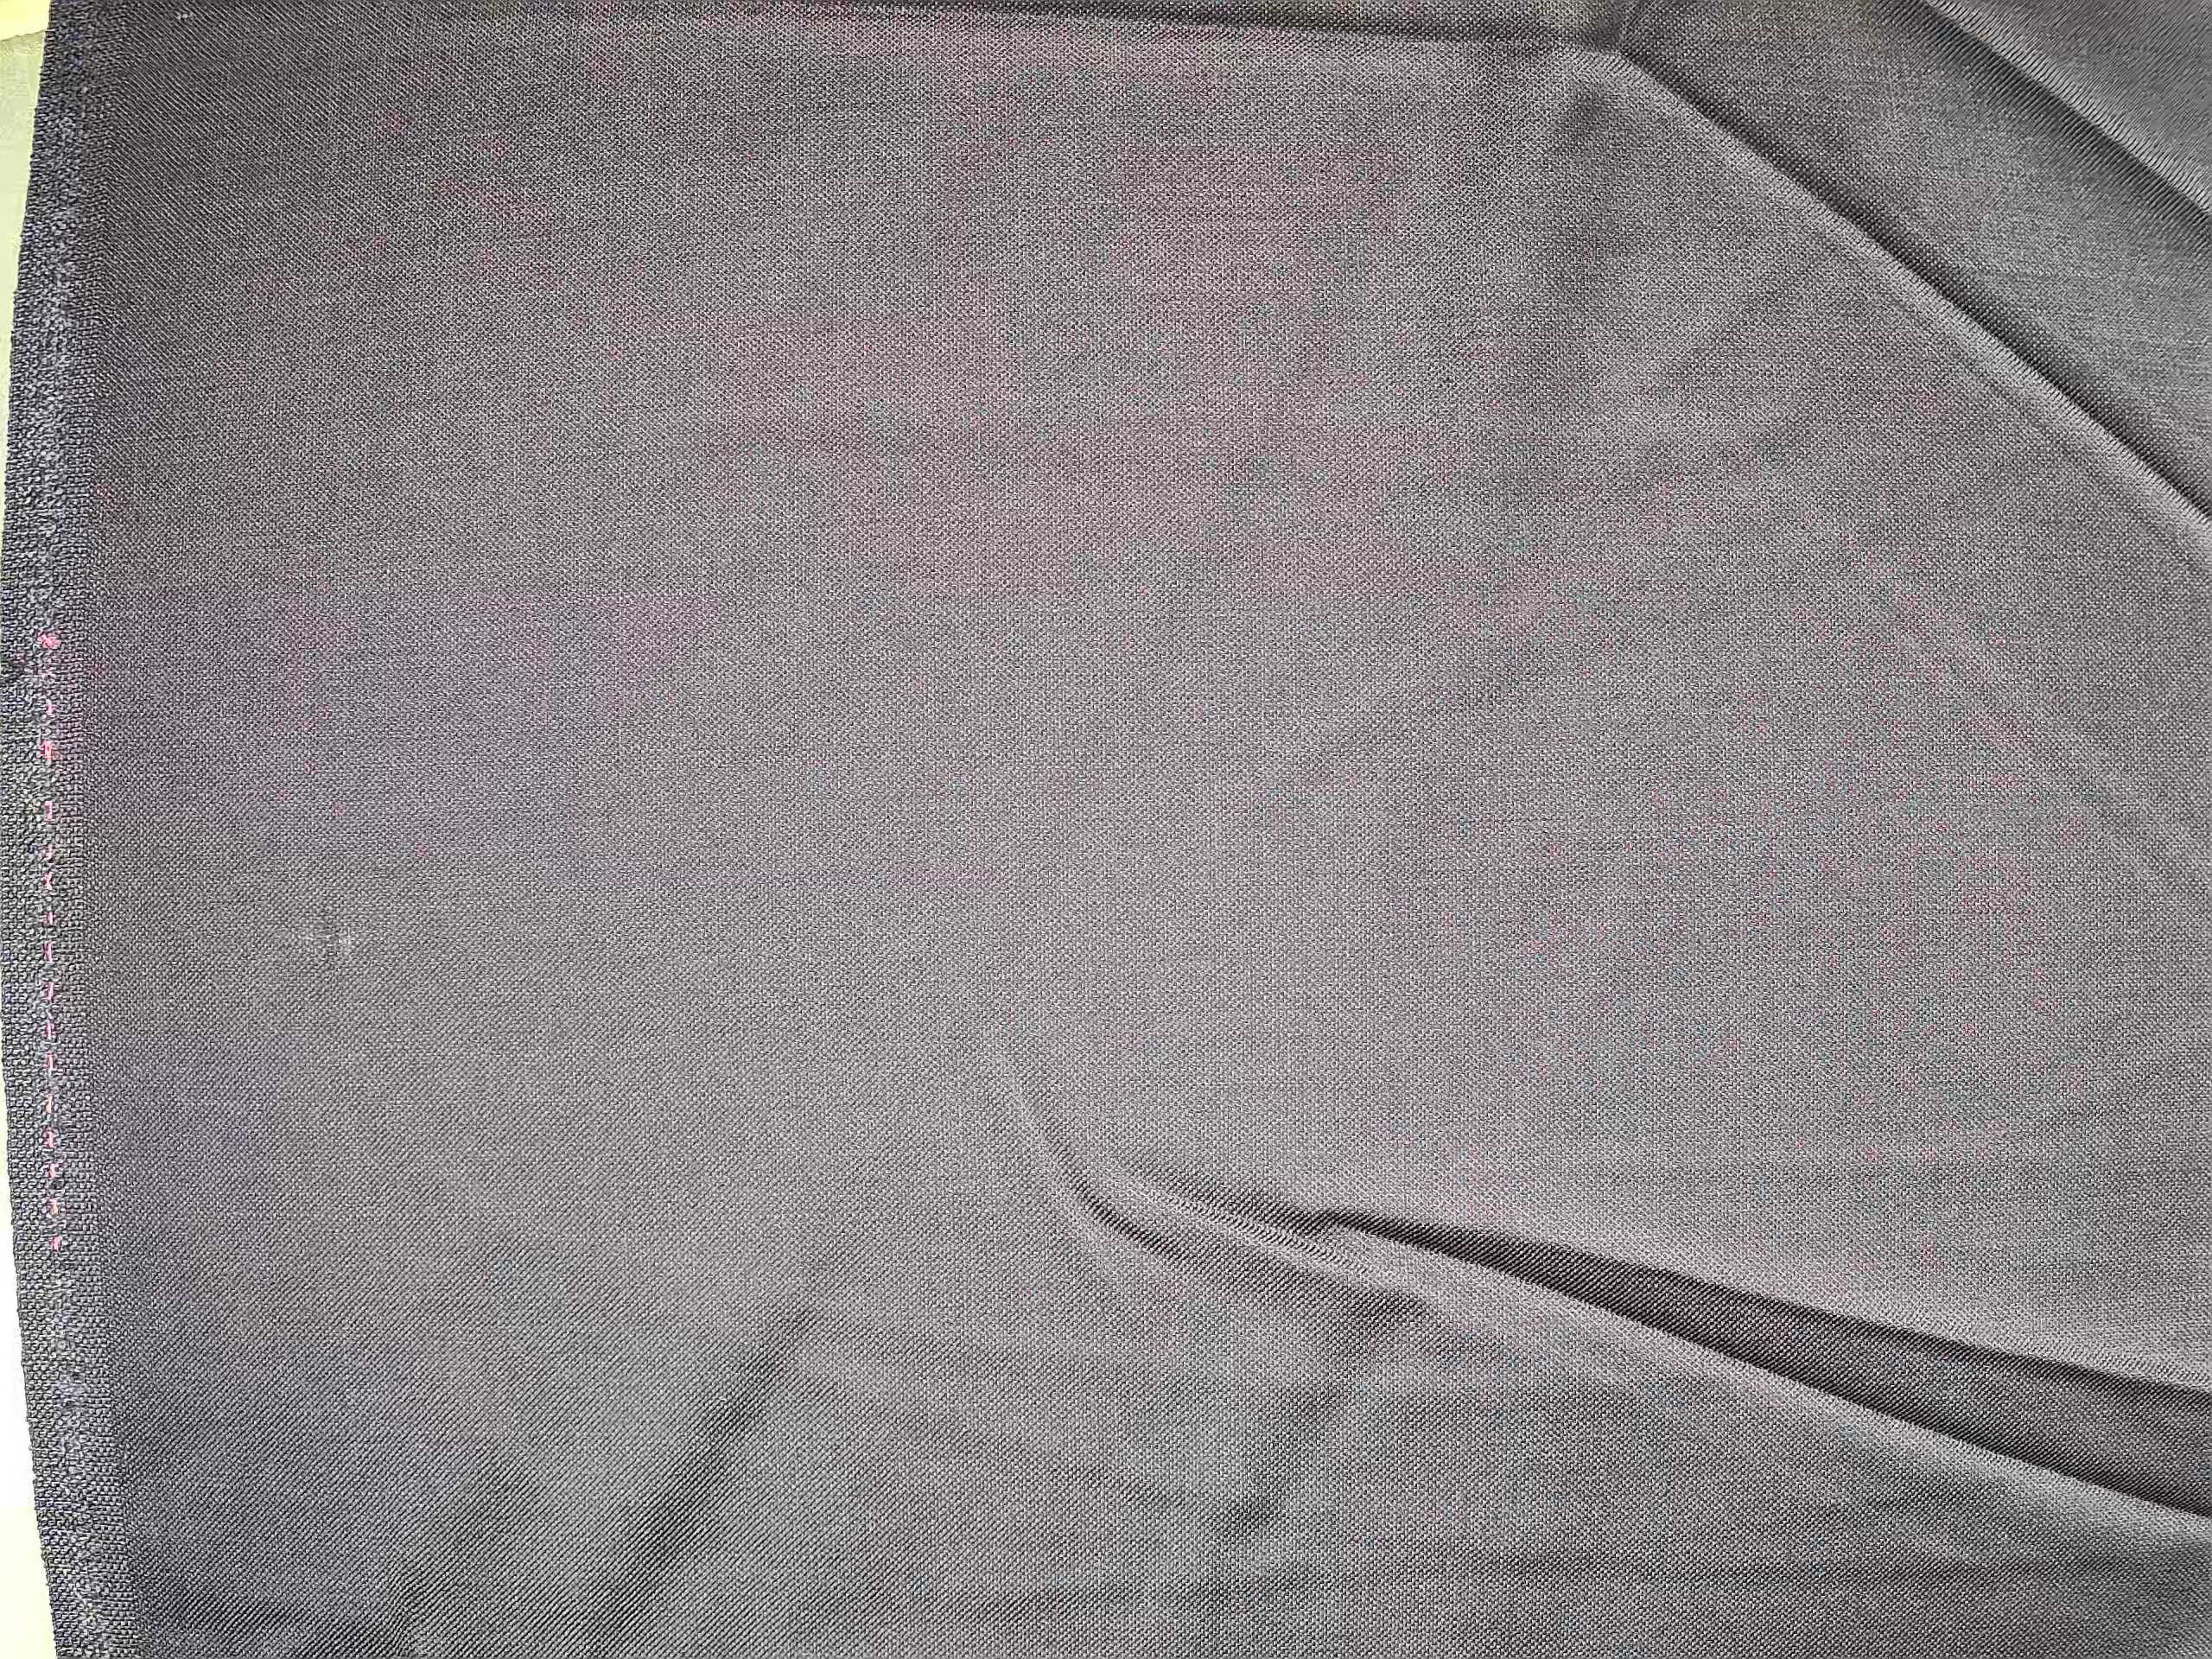brushed-hole: (279, 850, 381, 1028)
